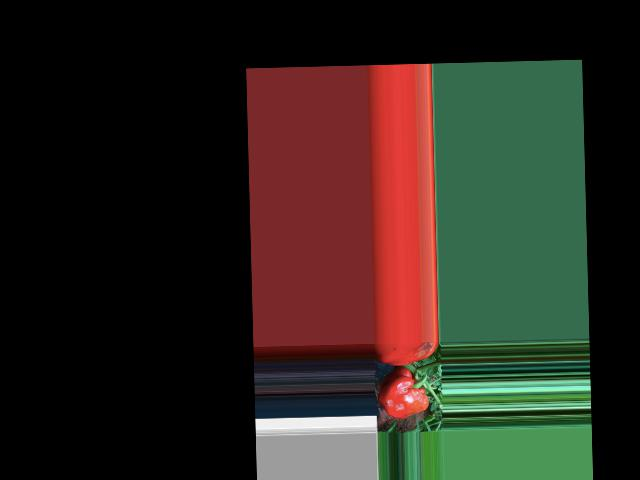bell_pepper: (374, 367, 433, 416)
